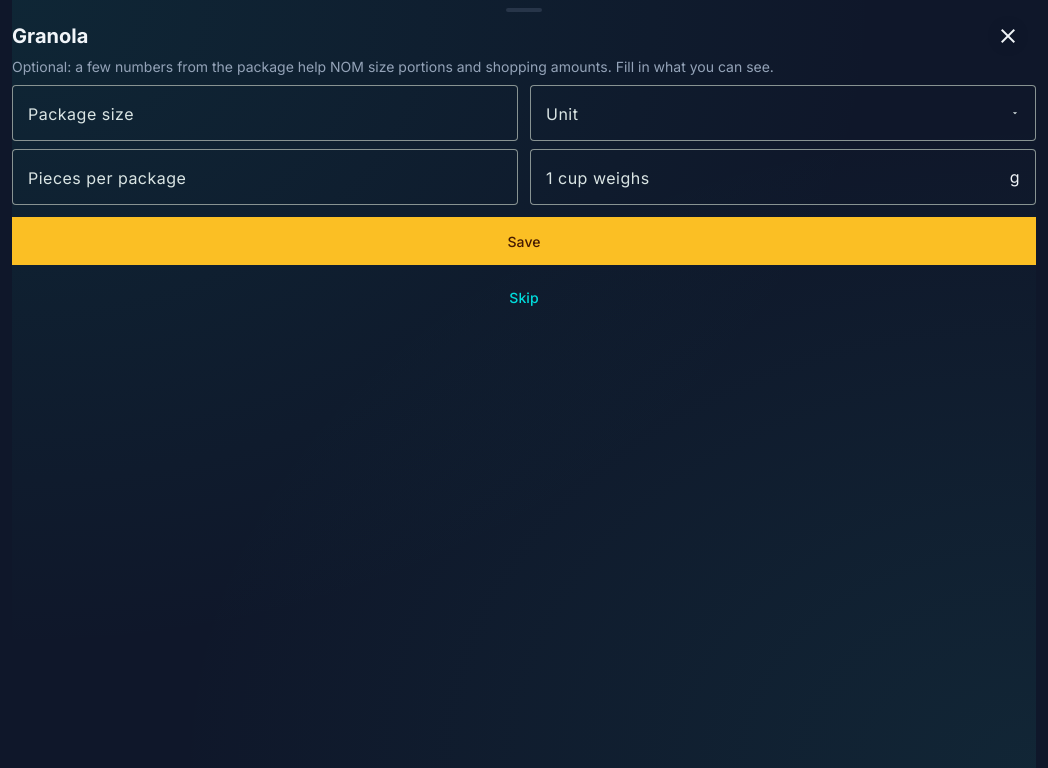
Scenario: MeasurementsSheet › explains a non-whole pieces count on the field instead of greying Save out
Type "12.5" into the number field with test id "measurements-pieces-input" at (265, 177), box [28,165,502,189]
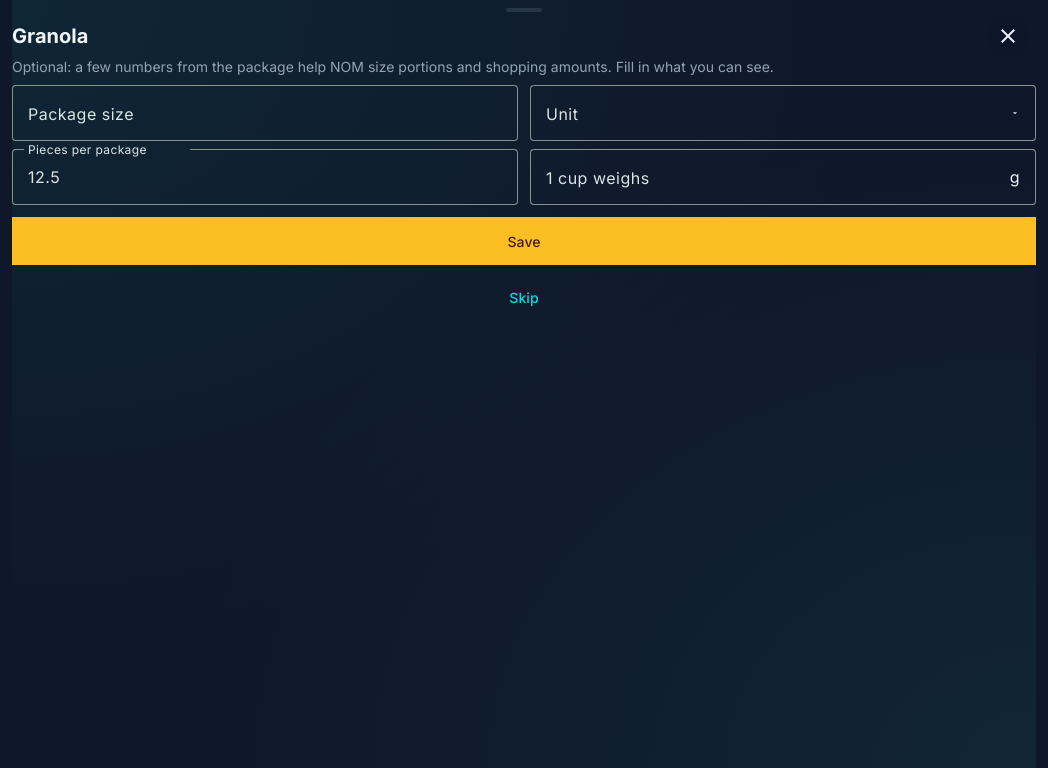
Click the button with test id "measurements-save-btn" at (524, 241), box [12,217,1036,265]
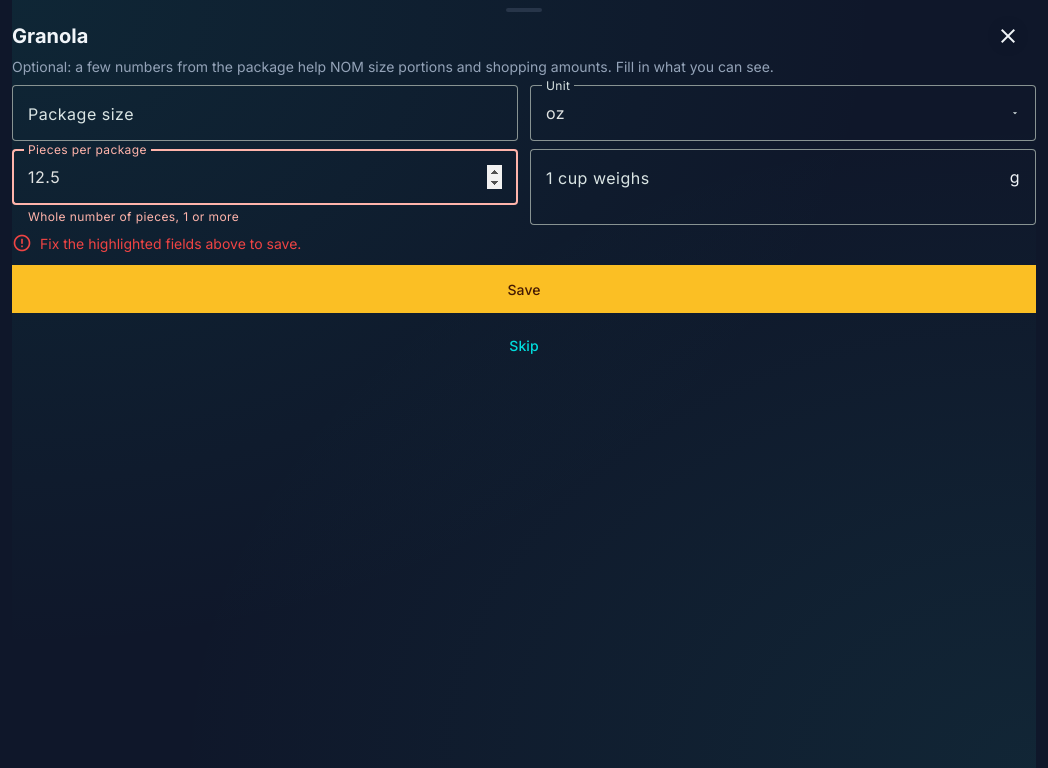
Check: the text with test id "measurements-pieces-error" shows "Whole number of pieces", box [28,209,239,224]
Check: the message "Fix the highlighted fields above to save." is shown, box [12,233,301,253]
